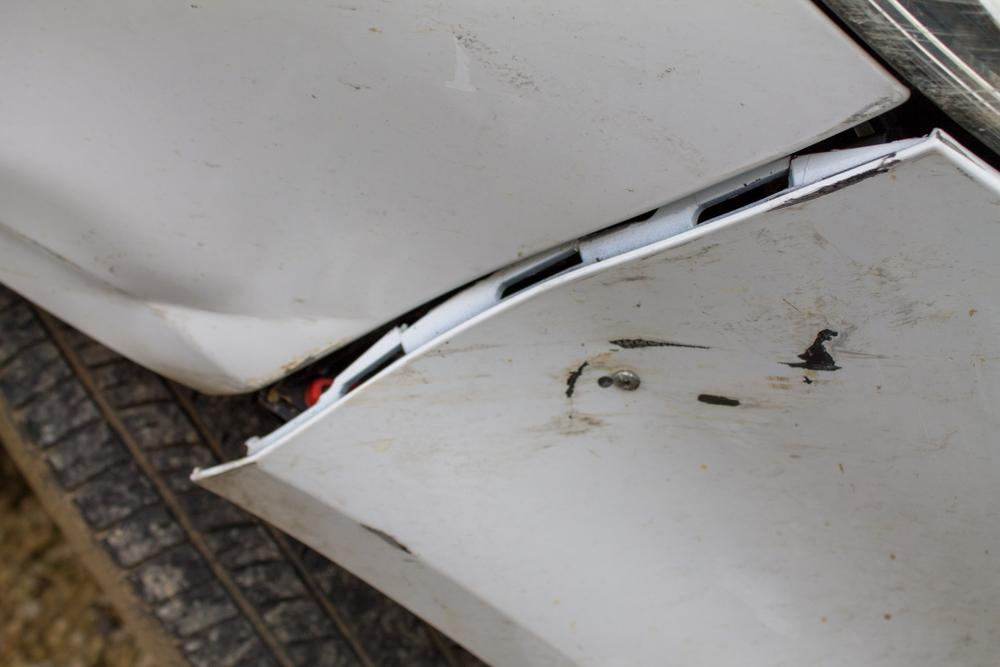scratch: (350, 159, 994, 468)
